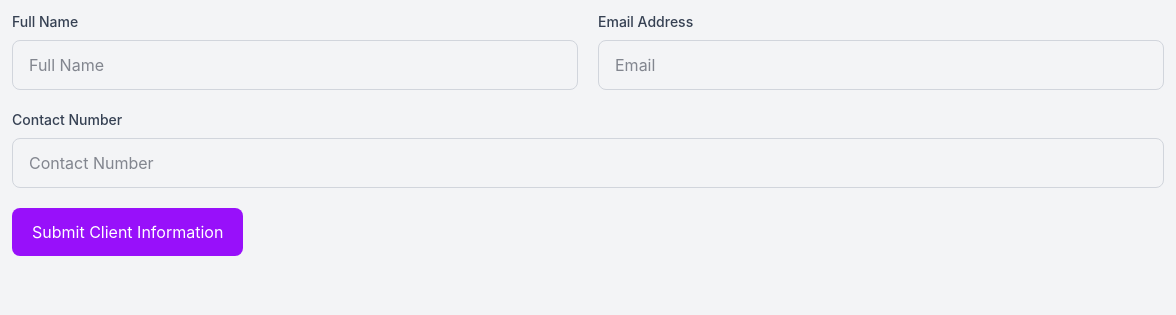
ClientInformation Component › shows message when all fields are empty
The width and height of the screenshot is (1176, 315).
Click the button "Submit Client Information" at (128, 232), box [12,208,243,256]
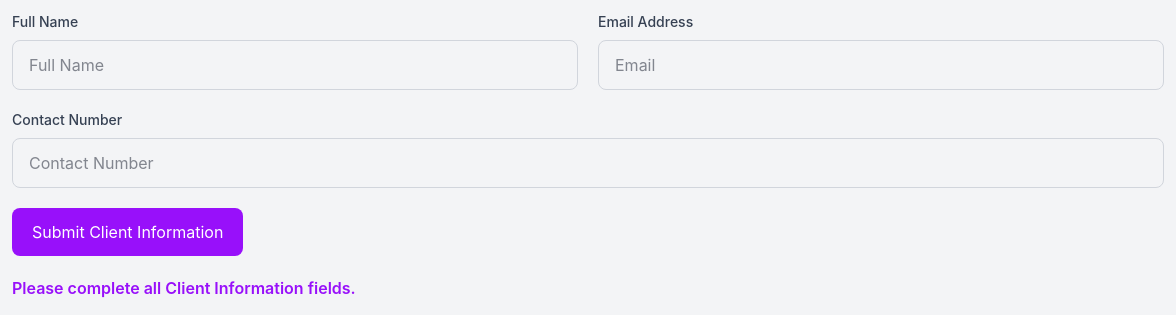
Check: the text "Please complete all Client Information fields." is shown, box [12,278,356,298]
